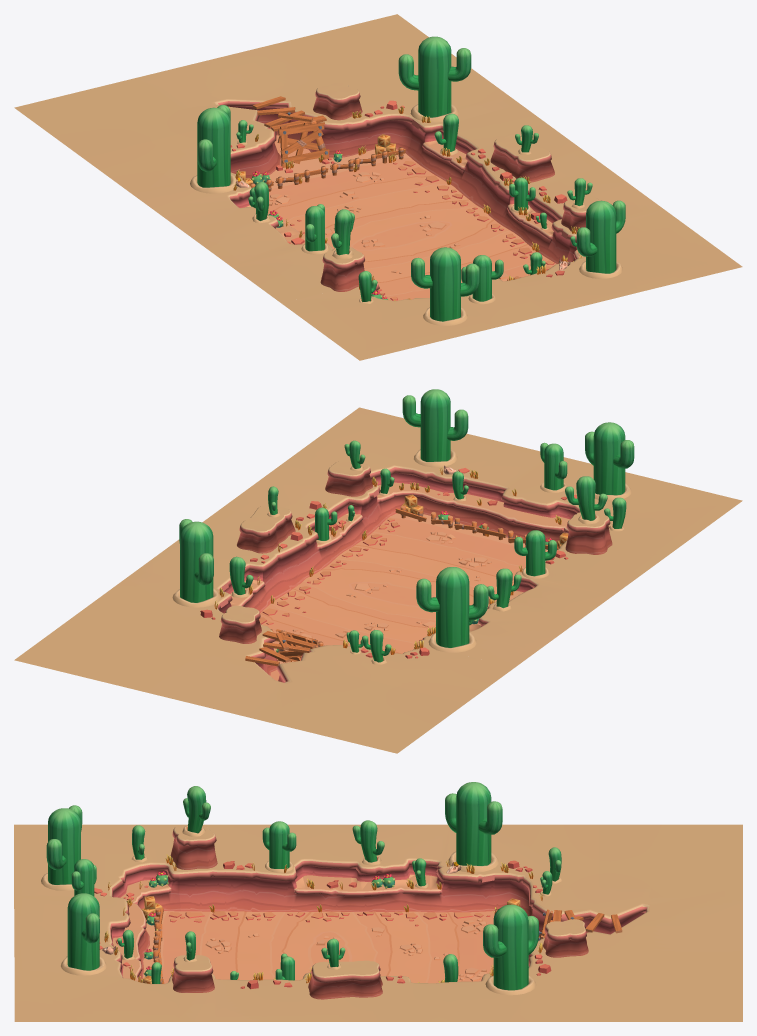
Rendered from canyon.glb.
The picture shows the model from 3 angles, top to bottom: view 1: azimuth 30°, elevation 25°; view 2: azimuth 150°, elevation 25°; view 3: azimuth 270°, elevation 25°; orthographic projection. The views are drawn at different scales.
Visible parts, largest first — view 1: bgr_canyon_top, bgr_canyon_bottom, bgr_canyon_ground_017, bgr_canyon_right, bgr_canyon_left, bgr_canyon_top_props, bgr_canyon_top_cactus_3, bgr_canyon_bottom_cactus_3, bgr_canyon_bottom_cactus_1, bgr_canyon_left_cactus_5, canyon_bottom_props, bgr_canyon_right_props (+6 smaller); view 2: bgr_canyon_top, bgr_canyon_bottom, bgr_canyon_ground_017, bgr_canyon_right, bgr_canyon_left, bgr_canyon_left_cactus_5, bgr_canyon_bottom_cactus_1, bgr_canyon_bottom_cactus_3, bgr_canyon_top_cactus_3, bgr_canyon_top_props, canyon_bottom_props, bgr_canyon_left_cactus_2 (+6 smaller); view 3: bgr_canyon_top, bgr_canyon_bottom, bgr_canyon_left, bgr_canyon_ground_017, bgr_canyon_right, bgr_canyon_left_cactus_5, bgr_canyon_top_cactus_3, bgr_canyon_bottom_cactus_1, bgr_canyon_bottom_cactus_3, canyon_bottom_props, bgr_canyon_top_props, bgr_canyon_left_props (+7 smaller).
Boxes of the visible parts, <box> form: bgr_canyon_top: <box>14,14,507,193</box>; bgr_canyon_bottom: <box>281,210,742,360</box>; bgr_canyon_ground_017: <box>268,135,556,300</box>; bgr_canyon_right: <box>405,95,664,263</box>; bgr_canyon_left: <box>132,172,364,303</box>; bgr_canyon_top_props: <box>230,96,458,191</box>; bgr_canyon_top_cactus_3: <box>398,36,471,117</box>; bgr_canyon_bottom_cactus_3: <box>411,247,479,321</box>; bgr_canyon_bottom_cactus_1: <box>576,200,625,273</box>; bgr_canyon_left_cactus_5: <box>197,105,230,187</box>; canyon_bottom_props: <box>358,226,622,325</box>; bgr_canyon_right_props: <box>440,147,585,251</box>; bgr_canyon_top: <box>14,579,514,753</box>; bgr_canyon_bottom: <box>281,407,742,557</box>; bgr_canyon_ground_017: <box>259,513,547,680</box>; bgr_canyon_right: <box>125,459,383,613</box>; bgr_canyon_left: <box>421,512,664,667</box>; bgr_canyon_left_cactus_5: <box>416,567,488,647</box>; bgr_canyon_bottom_cactus_1: <box>402,389,468,461</box>; bgr_canyon_bottom_cactus_3: <box>585,422,634,495</box>; bgr_canyon_top_cactus_3: <box>179,519,213,602</box>; bgr_canyon_top_props: <box>172,587,435,666</box>; canyon_bottom_props: <box>372,449,631,549</box>; bgr_canyon_left_cactus_2: <box>514,530,556,576</box>; bgr_canyon_top: <box>494,824,742,1021</box>; bgr_canyon_bottom: <box>14,824,180,1021</box>; bgr_canyon_left: <box>170,824,494,912</box>; bgr_canyon_ground_017: <box>143,911,494,983</box>; bgr_canyon_right: <box>172,955,509,1021</box>; bgr_canyon_left_cactus_5: <box>445,782,502,865</box>; bgr_canyon_top_cactus_3: <box>483,904,538,990</box>; bgr_canyon_bottom_cactus_1: <box>67,893,99,970</box>; bgr_canyon_bottom_cactus_3: <box>46,805,82,884</box>; canyon_bottom_props: <box>41,854,176,983</box>; bgr_canyon_top_props: <box>446,860,622,995</box>; bgr_canyon_left_props: <box>182,825,498,912</box>.
Size of the model in its own units: 188 by 50.06 by 294.
9 materials, 9 textured.
